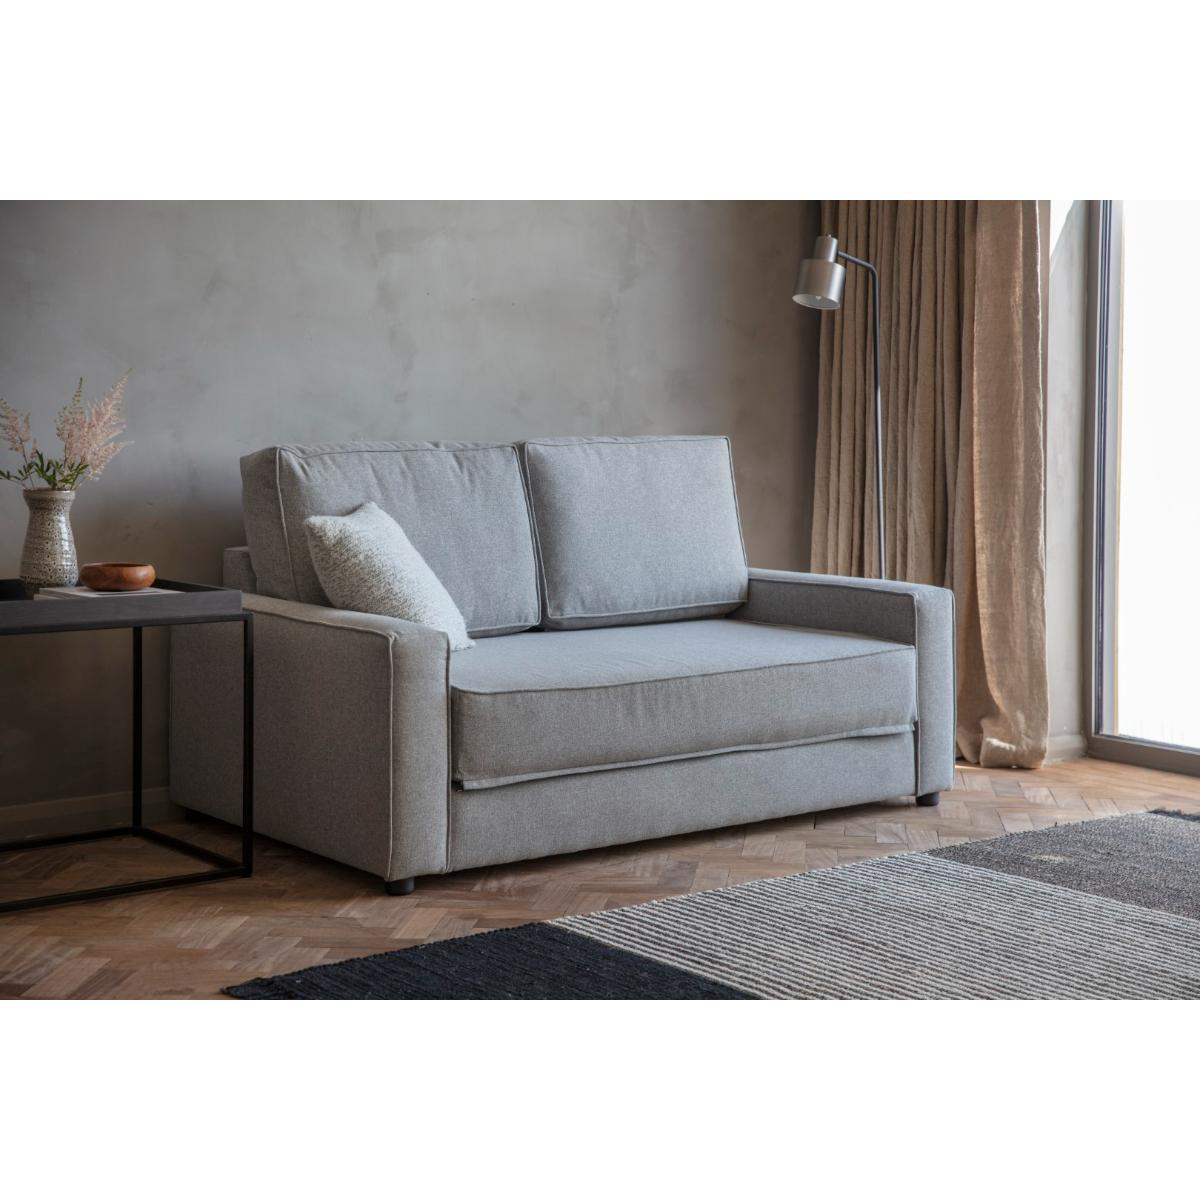Sofa: (234, 434, 972, 877)
